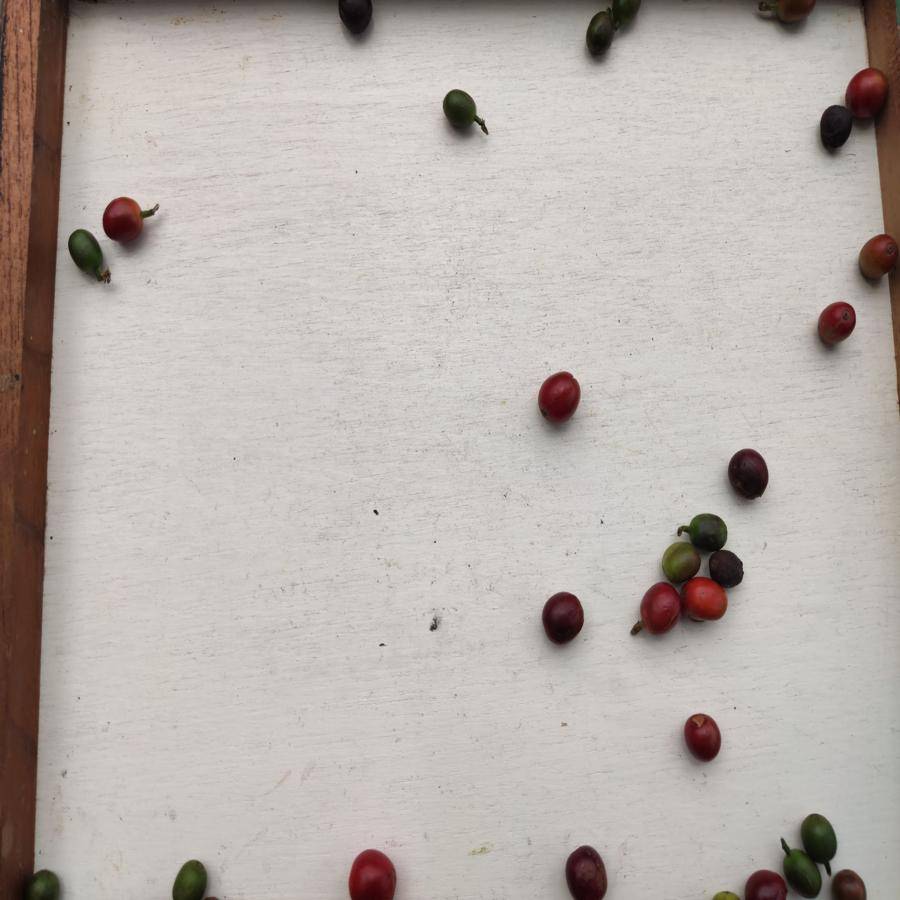Inmaduro: (781, 846, 820, 900), (441, 86, 484, 133), (800, 811, 838, 864), (67, 229, 105, 279), (582, 9, 617, 63), (168, 857, 209, 900), (683, 513, 733, 548), (24, 869, 65, 900)
Maduro: (346, 845, 403, 900), (533, 372, 584, 424), (100, 191, 147, 240), (846, 67, 887, 123), (640, 581, 683, 634), (683, 578, 727, 625), (817, 301, 860, 348)
Pinton: (855, 231, 896, 282), (659, 540, 701, 580)
Sobremaduro: (565, 843, 612, 900), (543, 590, 590, 645), (727, 449, 771, 501), (682, 708, 722, 765), (817, 103, 850, 150), (742, 864, 784, 900), (708, 550, 749, 586), (339, 1, 373, 41)
